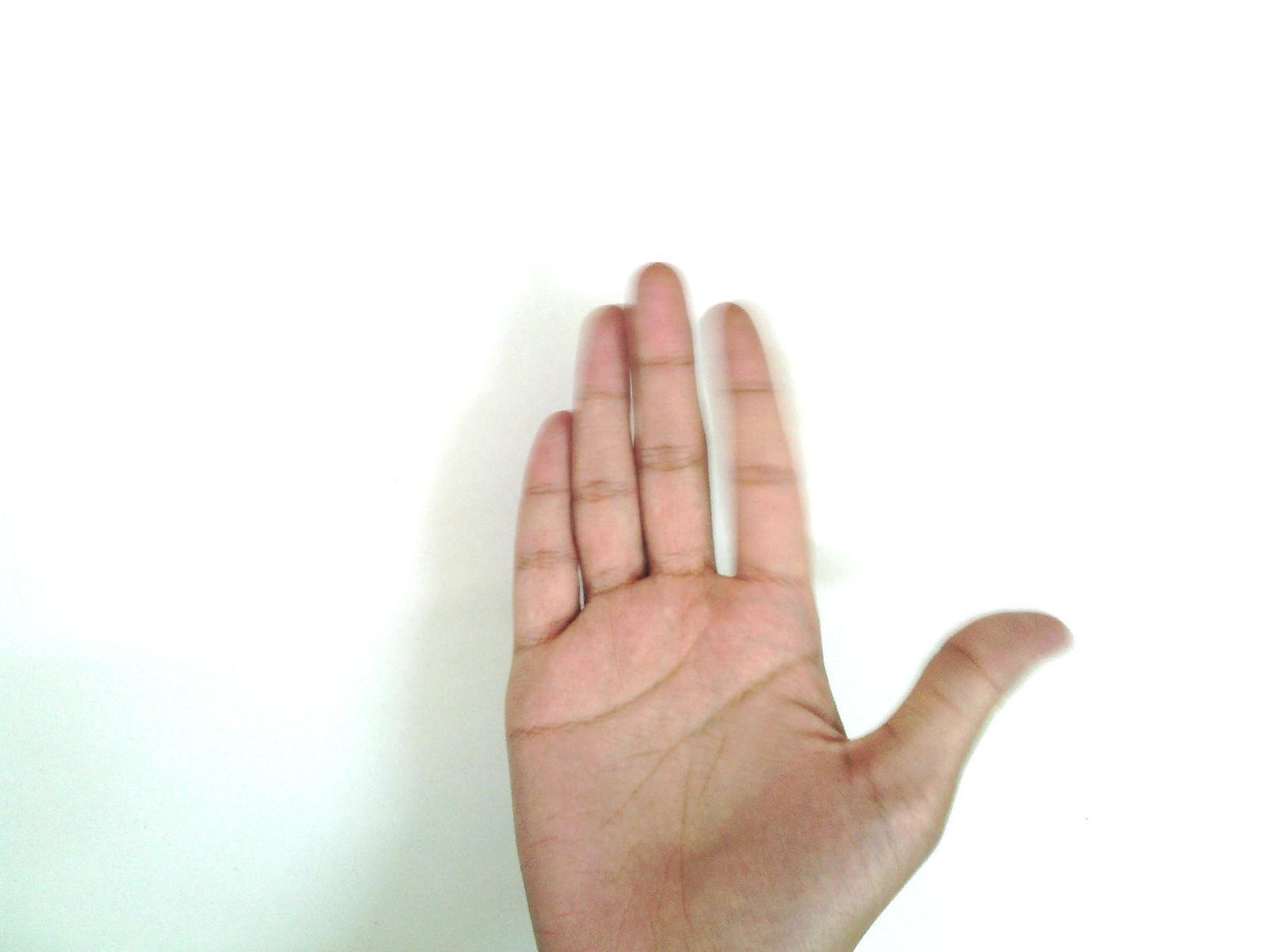open_palm: (500, 261, 1075, 951)
